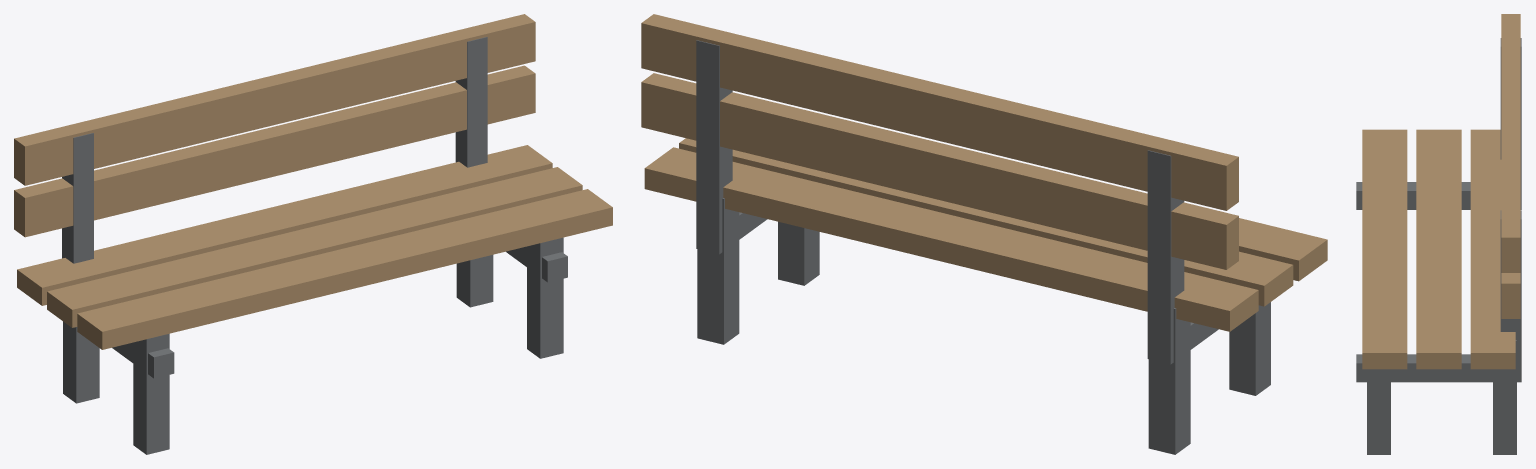
Rendered from bench_03.glb.
3 views of the same model, side by side, from view 1: azimuth 30°, elevation 25°; view 2: azimuth 150°, elevation 25°; view 3: azimuth 270°, elevation 25° (orthographic). The views are drawn at different scales.
Visible parts, largest first — view 1: Bench_03; view 2: Bench_03; view 3: Bench_03.
Part boxes in pixels (left/top/right/bottom): Bench_03: left=14, top=14, right=612, bottom=454; Bench_03: left=641, top=14, right=1327, bottom=454; Bench_03: left=1356, top=14, right=1521, bottom=454.
Bounding box in the file's own units: 1.76 × 0.875 × 0.55.
